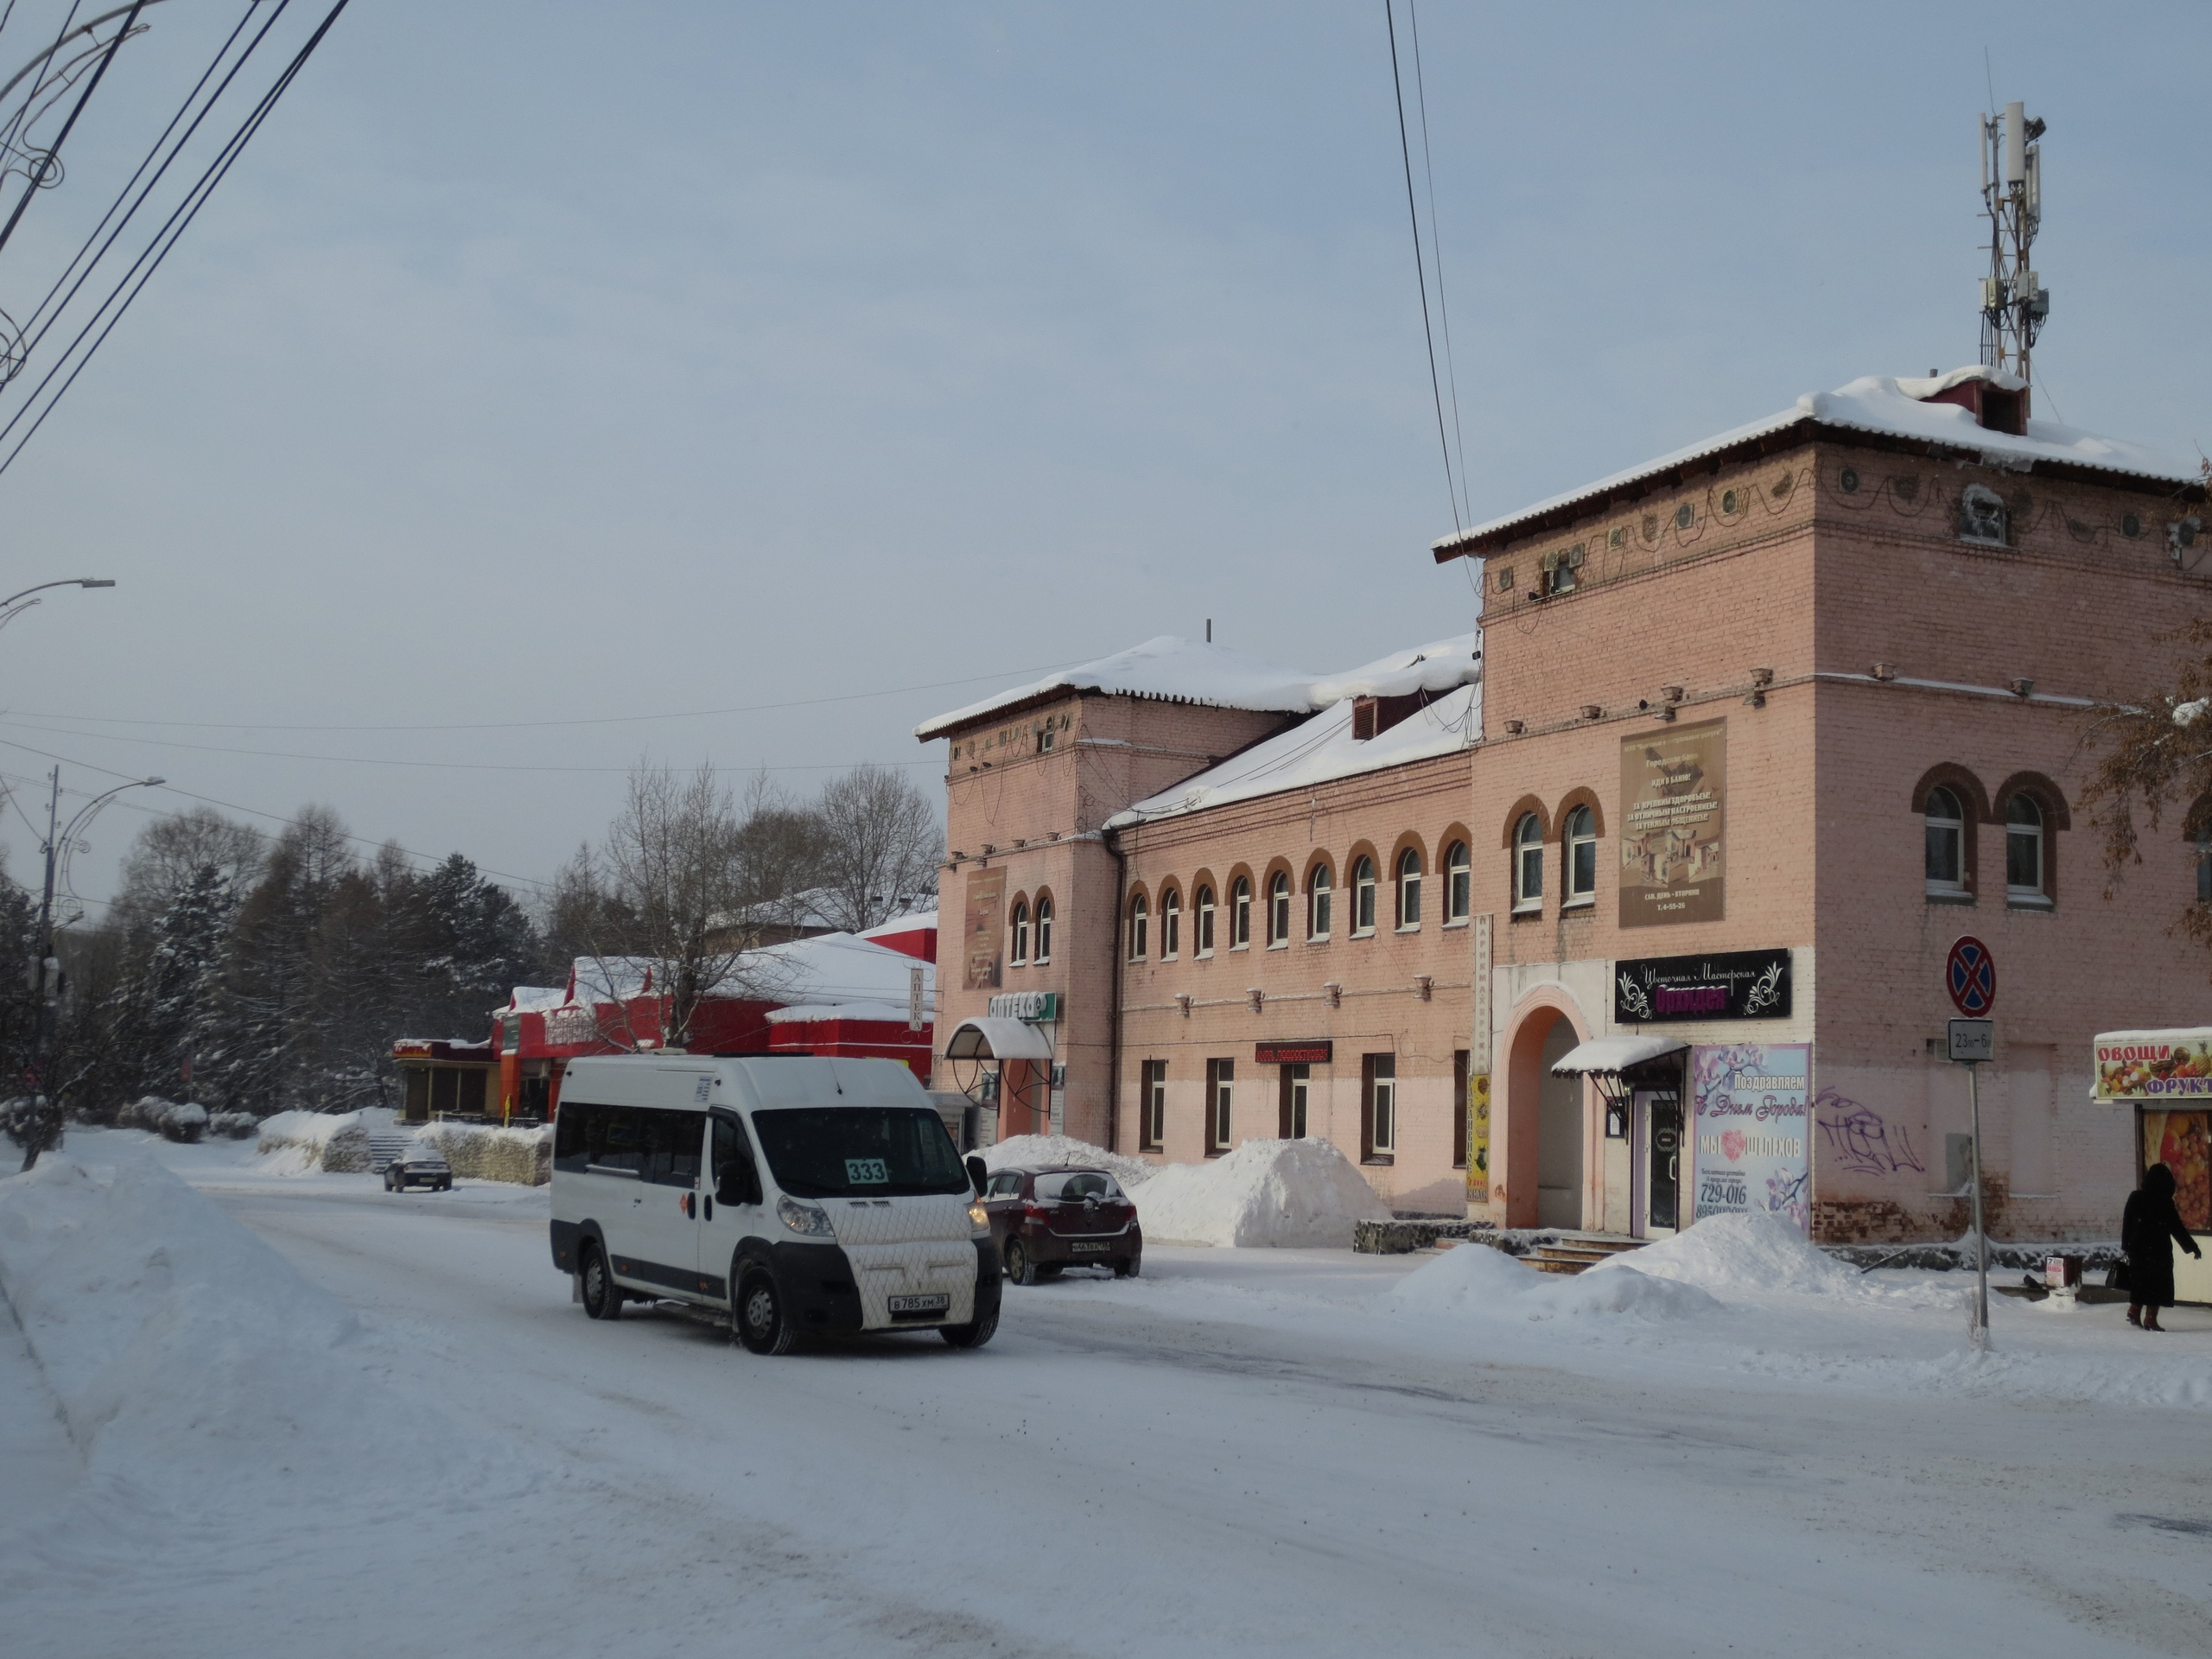sign: (1944, 934, 2000, 1018)
